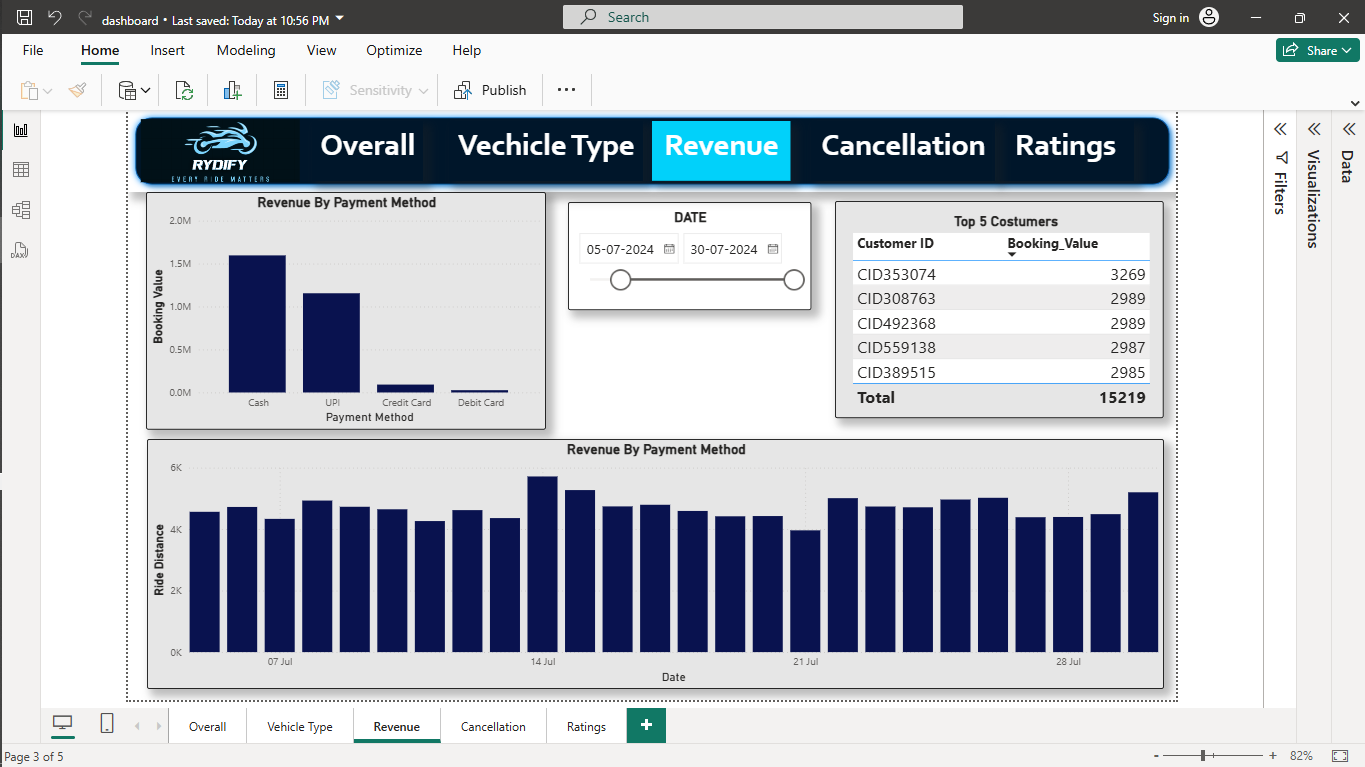

What the dashboard file says about the page in this screenshot:
{"tool":"powerbi","page":{"name":"Revenue","canvas":[1280,720],"ordinal":2},"visuals":[{"type":"shape","box":[0,0,1280,100],"z":0},{"type":"textbox","box":[224,13.3,136,73.3],"z":1000},{"type":"textbox","box":[392,13.3,237.3,73.3],"z":2000},{"type":"textbox","box":[640,13.3,169.3,73.3],"z":3000},{"type":"textbox","box":[833.3,13.3,225.3,73.3],"z":4000},{"type":"textbox","box":[1058.7,13.3,169.3,73.3],"z":5000},{"type":"image","box":[14.7,6.7,200,86.7],"z":6000},{"type":"actionButton","box":[1058.7,10.7,169.3,73.3],"z":7000},{"type":"actionButton","box":[392,10.7,237.3,76],"z":8000},{"type":"actionButton","box":[214.7,10.7,156,73.3],"z":9000},{"type":"actionButton","box":[833.3,12,225.3,73.3],"z":10000},{"type":"columnChart","title":"Revenue By Payment Method","fields":{"Y":["Sum(cleaned_kanpur_data.Booking_Value)"],"Category":["cleaned_kanpur_data.Payment_Method"]},"box":[22.2,99.9,488.3,289.8],"z":11000},{"type":"columnChart","title":"Revenue By Payment Method","fields":{"Y":["Sum(cleaned_kanpur_data.Ride_Distance)"],"Category":["cleaned_kanpur_data.Date"]},"box":[22.7,401.3,1241.3,305.3],"z":12000},{"type":"slicer","title":"DATE","fields":{"Values":["cleaned_kanpur_data.Date"]},"box":[536.4,112.2,297.2,131.9],"z":13000},{"type":"tableEx","title":"Top 5 Costumers","fields":{"Values":["cleaned_kanpur_data.Customer_ID","Sum(cleaned_kanpur_data.Booking_Value)"]},"box":[863.2,111,400.8,265.1],"z":14000}]}

Visuals, with their boxes on the page's 1280x720 design canvas (x1, y1, x2, y2). These are canvas units, not pixel positions in the 1365x767 screenshot, which may show the page scaled, cropped or inside an application window:
shape: [0, 0, 1280, 100]
textbox: [224, 13, 360, 87]
textbox: [392, 13, 629, 87]
textbox: [640, 13, 809, 87]
textbox: [833, 13, 1059, 87]
textbox: [1059, 13, 1228, 87]
image: [15, 7, 215, 93]
actionButton: [1059, 11, 1228, 84]
actionButton: [392, 11, 629, 87]
actionButton: [215, 11, 371, 84]
actionButton: [833, 12, 1059, 85]
"Revenue By Payment Method" columnChart: [22, 100, 510, 390]
"Revenue By Payment Method" columnChart: [23, 401, 1264, 707]
"DATE" slicer: [536, 112, 834, 244]
"Top 5 Costumers" tableEx: [863, 111, 1264, 376]
